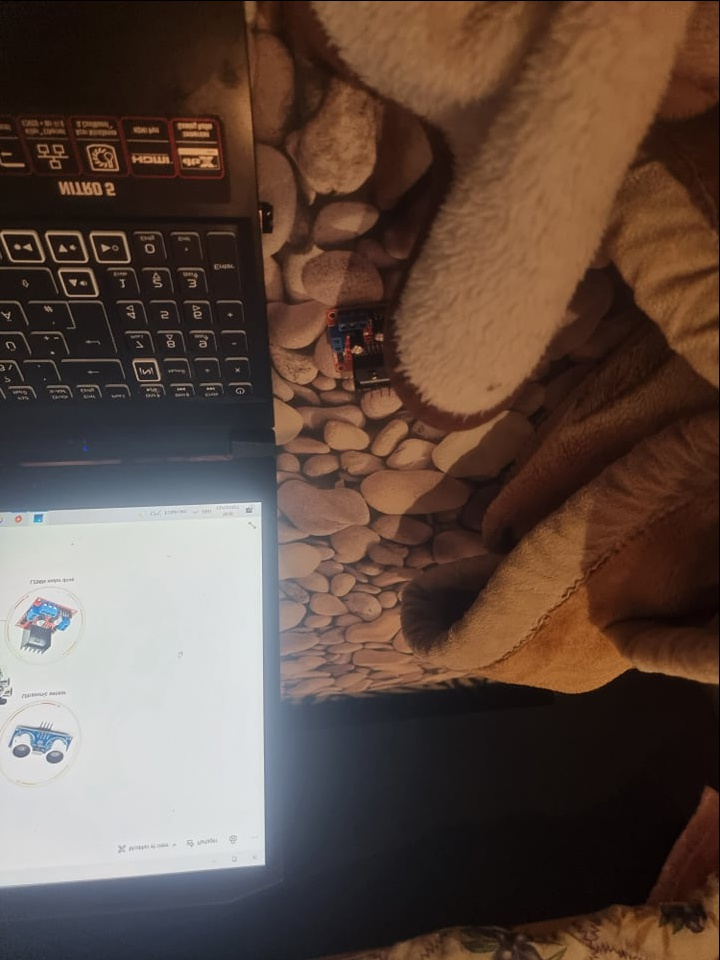MOTOR: (323, 304, 403, 399), (16, 596, 80, 651)
SENSOR: (9, 724, 75, 765)
